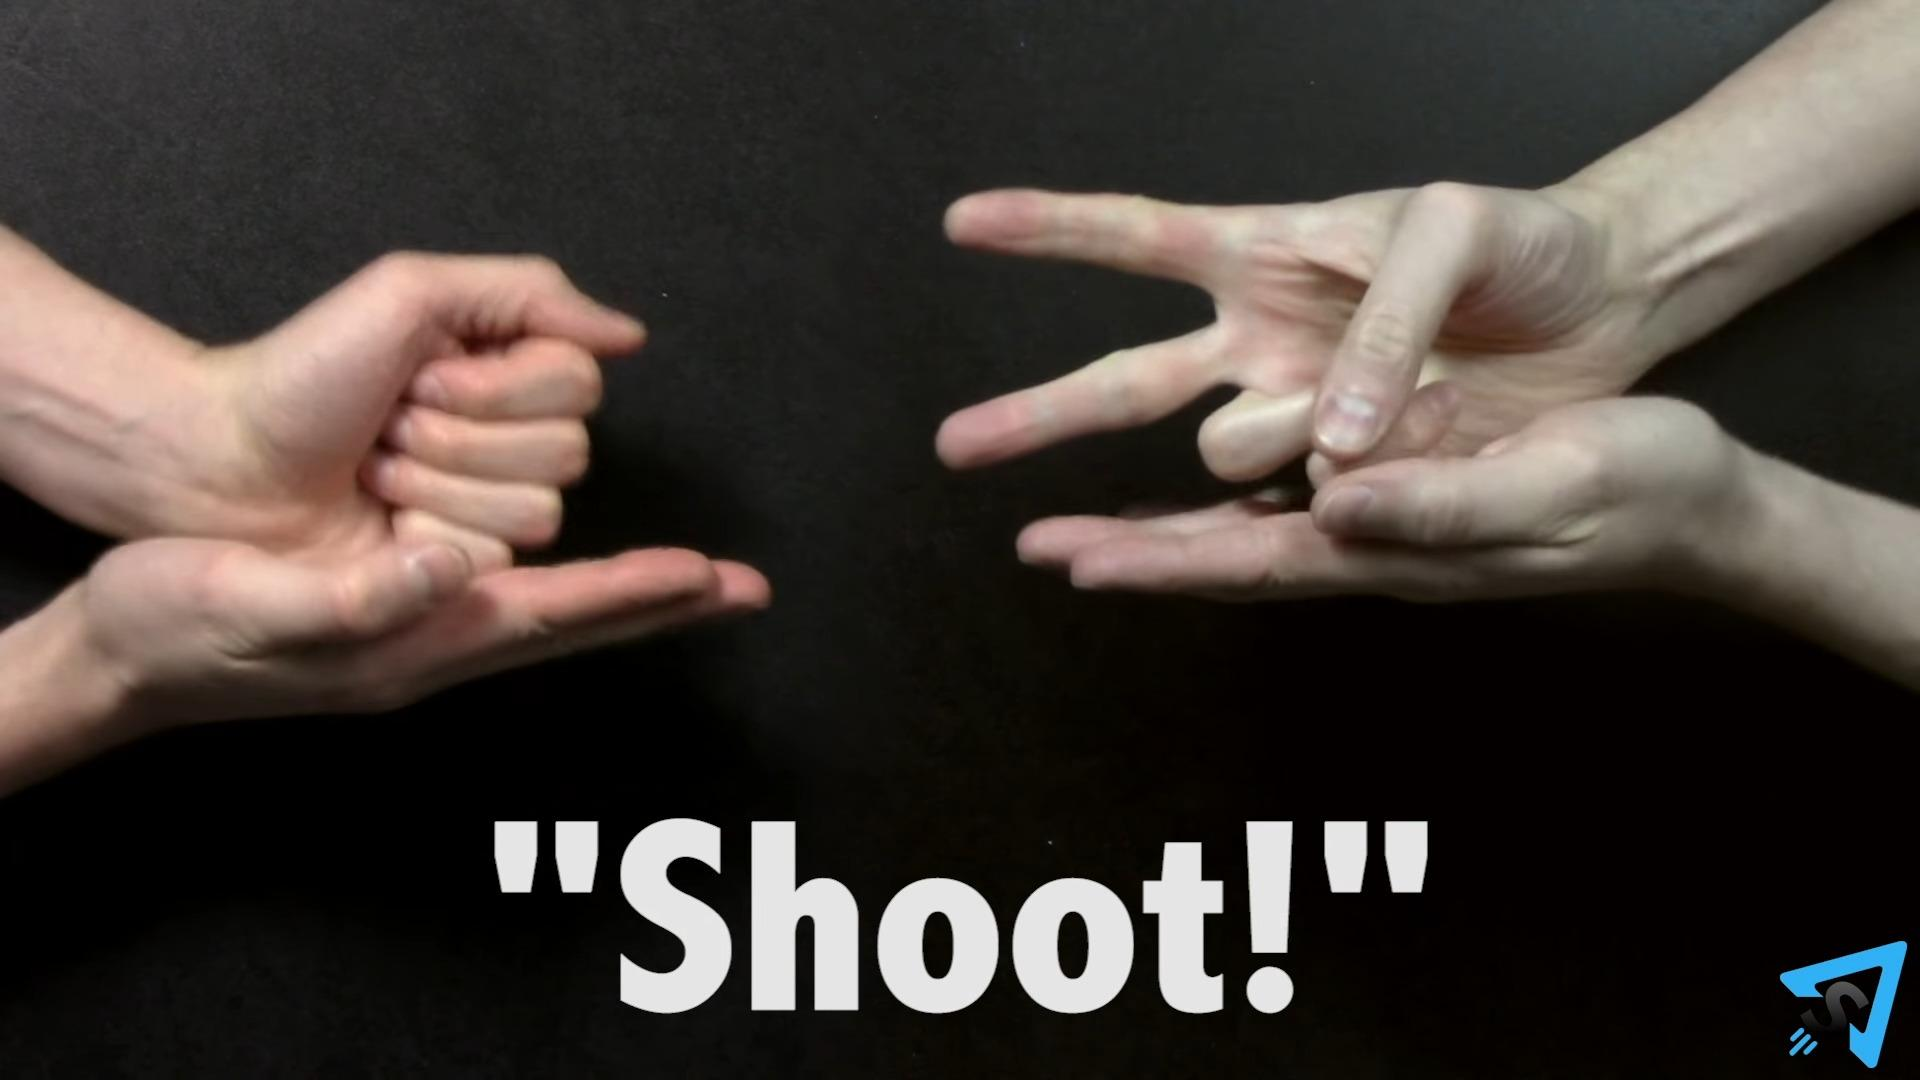Rock: (220, 245, 653, 581)
Scissors: (935, 172, 1667, 496)
